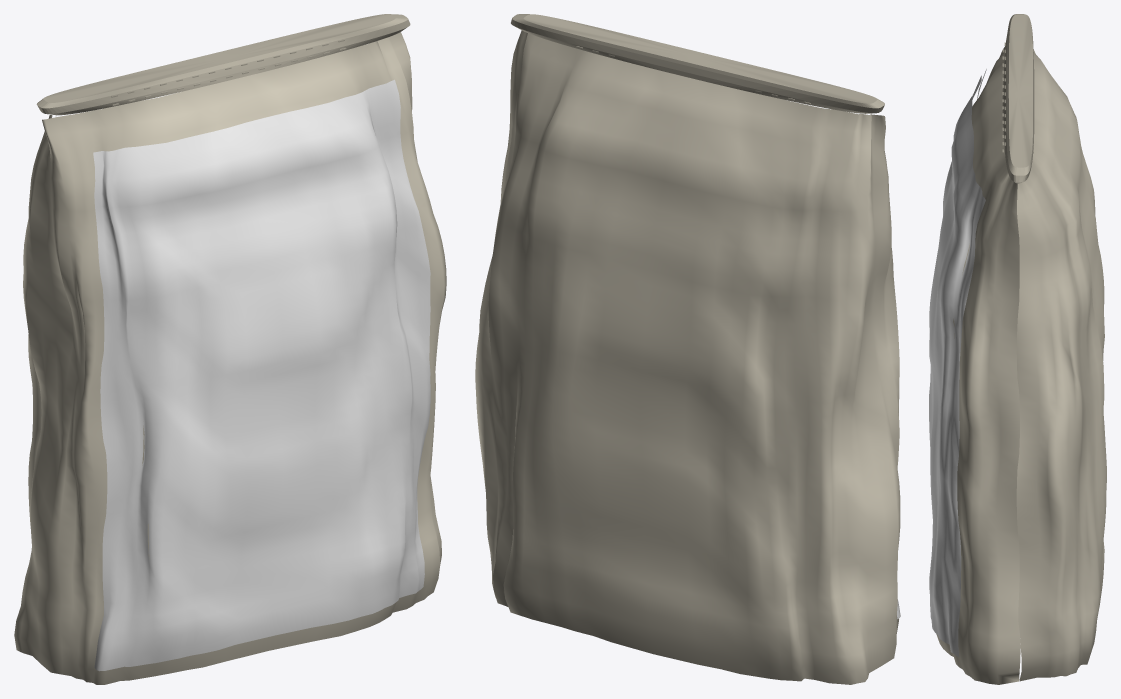
The model's file is sack.glb.
The picture shows the model from 3 angles, left to right: view 1: azimuth 30°, elevation 25°; view 2: azimuth 150°, elevation 25°; view 3: azimuth 270°, elevation 25°; orthographic projection. The views are drawn at different scales.
Visible parts, largest first — view 1: sack-panel, sack-body; view 2: sack-body; view 3: sack-body, sack-panel.
Boxes of the visible parts, x1=… form: sack-panel: x1=93, y1=79, x2=430, y2=671; sack-body: x1=14, y1=14, x2=446, y2=684; sack-body: x1=475, y1=14, x2=900, y2=684; sack-body: x1=936, y1=14, x2=1106, y2=684; sack-panel: x1=929, y1=69, x2=986, y2=656.
Size of the model in its own units: 1.54 by 2.13 by 0.6737.
